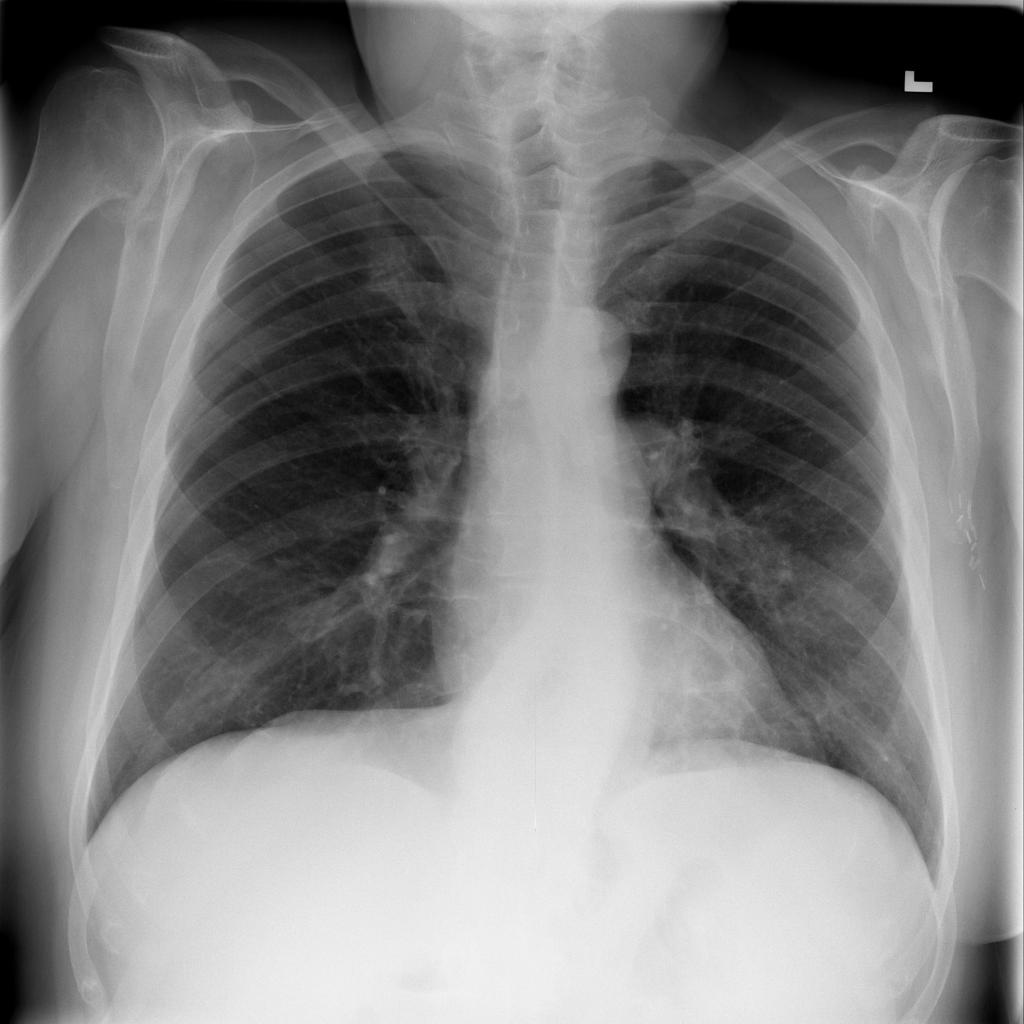nodule: (697, 649, 771, 719)
